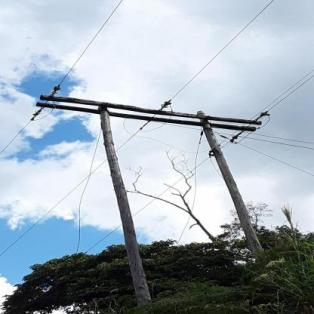Poste: (90, 99, 168, 309), (190, 104, 287, 262)
